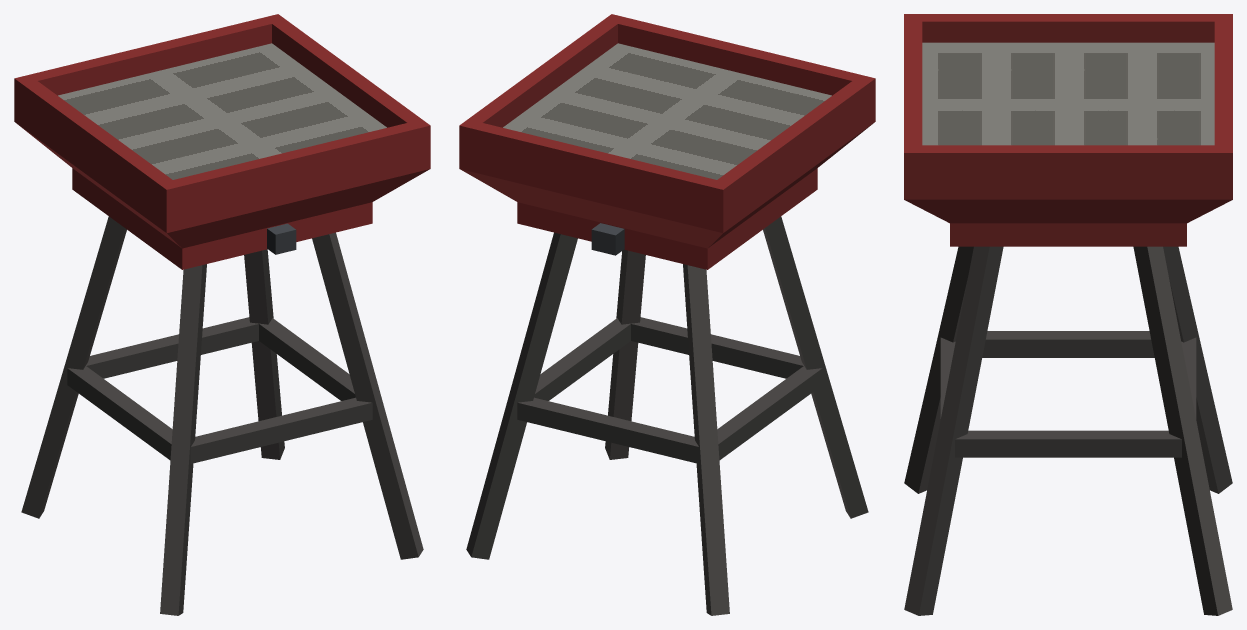
File: SA_Prop_BBQ_01.glb
3 views of the same model, side by side, from view 1: azimuth 30°, elevation 25°; view 2: azimuth 150°, elevation 25°; view 3: azimuth 270°, elevation 25° (orthographic). The views are drawn at different scales.
Visible parts, largest first — view 1: SA_Prop_BBQ_01; view 2: SA_Prop_BBQ_01; view 3: SA_Prop_BBQ_01.
Boxes of the visible parts, left/top/right/bottom form: SA_Prop_BBQ_01: left=14, top=14, right=430, bottom=615; SA_Prop_BBQ_01: left=459, top=14, right=875, bottom=615; SA_Prop_BBQ_01: left=904, top=14, right=1232, bottom=615.
Bounding box in the file's own units: 0.4187 × 0.6571 × 0.4187.
1 material, 1 textured.
